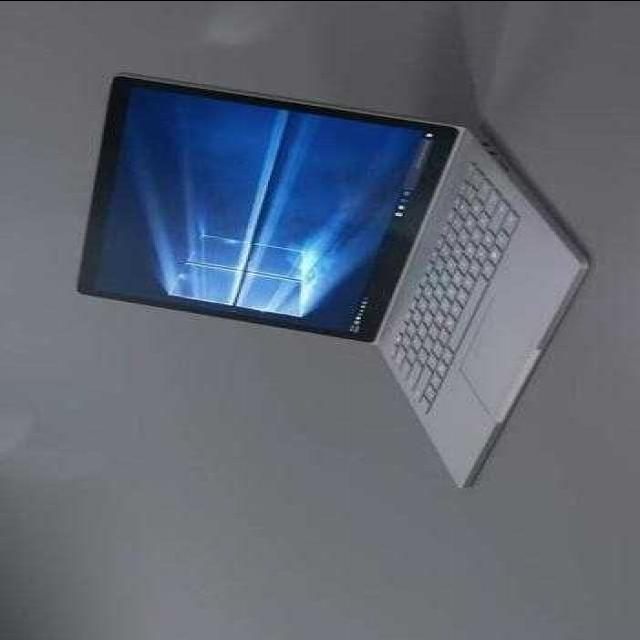laptop: (76, 77, 586, 495)
